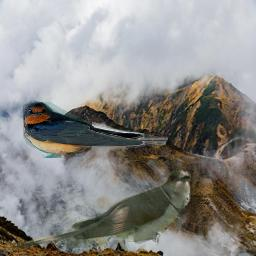Cuckoo: (5, 168, 191, 253)
Swallow: (20, 99, 168, 158)
